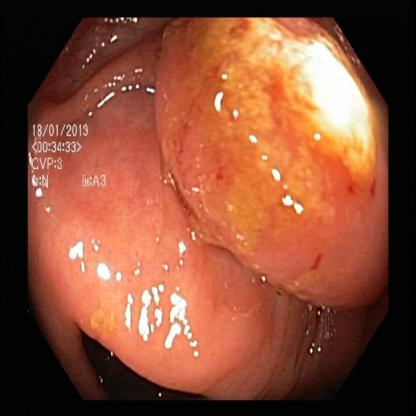Labels: (26, 120, 115, 196)
Polyps: (218, 36, 378, 238), (128, 246, 270, 373)
